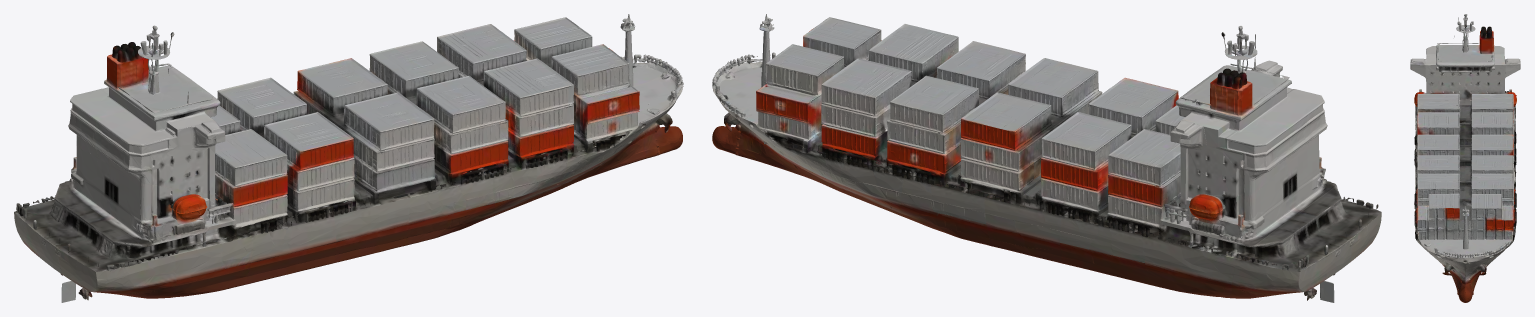
3 renders of one model, left to right at view 1: azimuth 30°, elevation 25°; view 2: azimuth 150°, elevation 25°; view 3: azimuth 270°, elevation 25°, orthographic. The views are drawn at different scales.
Parts seen in each view (by area): view 1: tripo_node_64737b02-9aef-4012-a54d-6153c28519b3; view 2: tripo_node_64737b02-9aef-4012-a54d-6153c28519b3; view 3: tripo_node_64737b02-9aef-4012-a54d-6153c28519b3.
Boxes of the visible parts, x1,y1,x2,y2 form: tripo_node_64737b02-9aef-4012-a54d-6153c28519b3: (14,14,683,302); tripo_node_64737b02-9aef-4012-a54d-6153c28519b3: (712,14,1381,302); tripo_node_64737b02-9aef-4012-a54d-6153c28519b3: (1410,14,1520,302).
Bounding box in the file's own units: 0.9999 × 0.3871 × 0.2629.
1 material, 1 textured.
